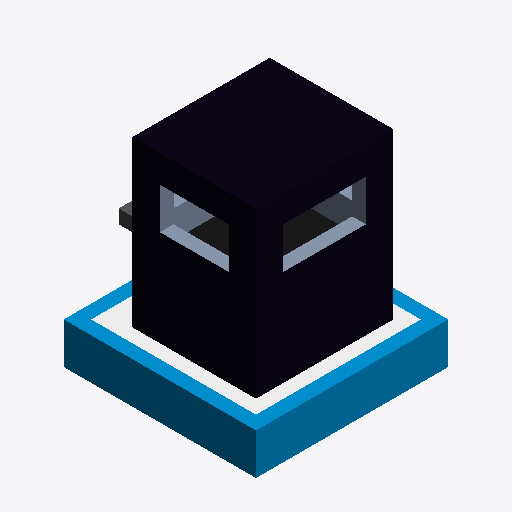
A Minecraft block model of 21 cuboids, rendered isometrically (azimuth 45°, elevation 35.3°) with the resource pack's own textures.
Visible parts, largest first — element 1, element 9, element 8, element 12, element 7, element 2, element 20, element 15, element 17, element 11, element 18, element 19.
Boxes of the visible parts, box(x1,y1,x2,y2) form: element 1: box(64, 280, 447, 477); element 9: box(132, 58, 392, 239); element 8: box(242, 209, 392, 397); element 12: box(146, 224, 241, 389); element 7: box(132, 193, 214, 334); element 2: box(188, 209, 337, 255); element 20: box(229, 225, 269, 286); element 15: box(352, 161, 392, 223); element 17: box(146, 177, 173, 231); element 11: box(311, 185, 351, 223); element 18: box(132, 169, 145, 223); element 19: box(270, 225, 282, 278).
Size of the model in its own units: 14 by 16 by 14.